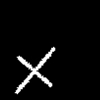single_crochet: (15, 47, 54, 93)
